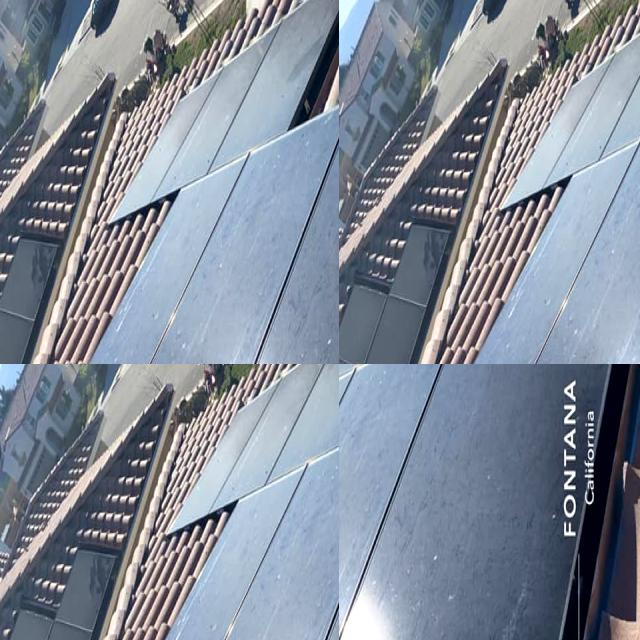crack: (0, 0, 318, 364), (9, 0, 324, 364), (339, 198, 640, 364), (339, 219, 640, 364)
dust: (462, 364, 550, 640), (356, 416, 446, 631), (120, 478, 182, 640), (339, 452, 378, 623), (363, 364, 421, 408), (339, 364, 388, 392)
